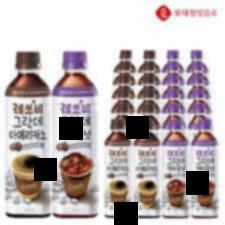letsbe_grande_hazelnut: (51, 50, 99, 219), (189, 120, 219, 220), (162, 120, 188, 221)
